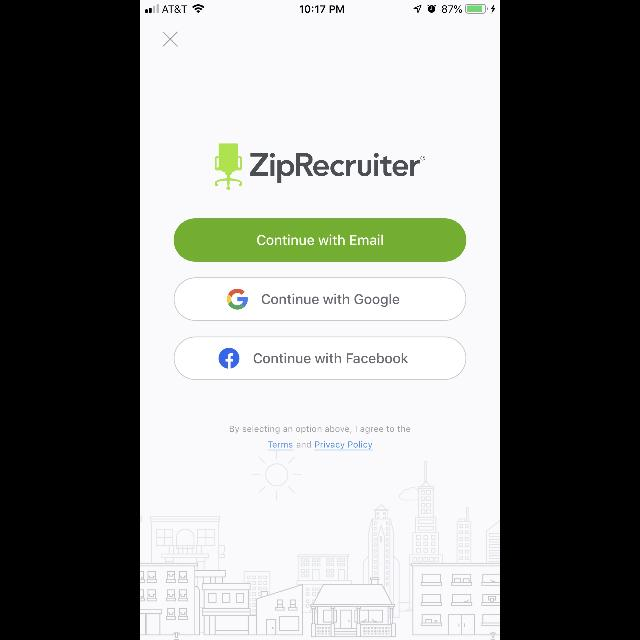icon: (162, 32, 178, 46)
image: (140, 450, 500, 640), (214, 144, 242, 190)
text: (250, 152, 426, 184), (230, 426, 410, 450)
textbutton: (174, 218, 466, 262), (174, 277, 466, 321), (174, 336, 466, 380)
uppertaskbar: (140, 0, 500, 14)
